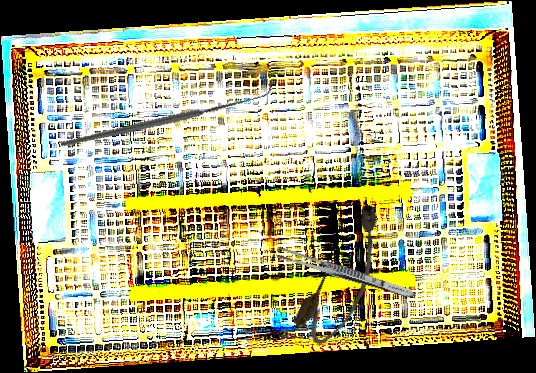Cannula: (288, 197, 403, 352)
Dressing Forceps: (273, 245, 419, 302)
Hook Surgical: (59, 29, 273, 201)
